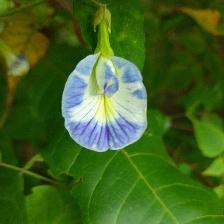shankupushpam: (60, 50, 152, 156)
